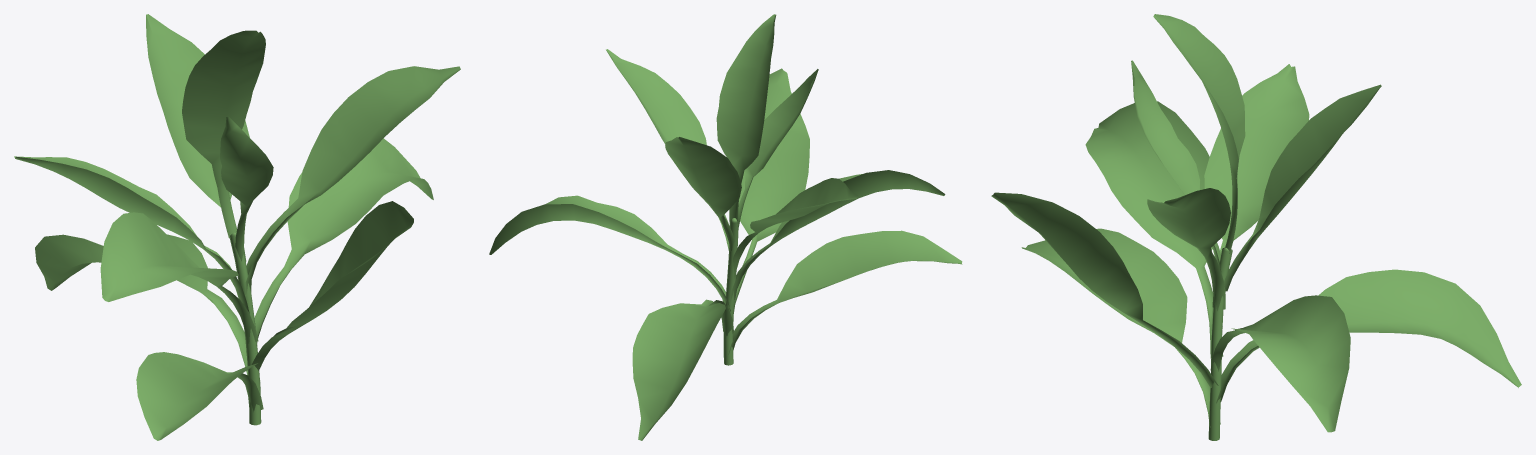
Rendered from SM_Aglaonema_01.glb.
The picture shows the model from 3 angles, left to right: view 1: azimuth 30°, elevation 25°; view 2: azimuth 150°, elevation 25°; view 3: azimuth 270°, elevation 25°; orthographic projection. The views are drawn at different scales.
Visible parts, largest first — view 1: SM_Aglaonema_01; view 2: SM_Aglaonema_01; view 3: SM_Aglaonema_01.
Part boxes in pixels (x1=…): SM_Aglaonema_01: x1=14, y1=14, x2=460, y2=440; SM_Aglaonema_01: x1=489, y1=14, x2=962, y2=440; SM_Aglaonema_01: x1=991, y1=14, x2=1521, y2=440.
Size of what is drawn, in the model's own units: 15.78 by 14.14 by 16.57.
